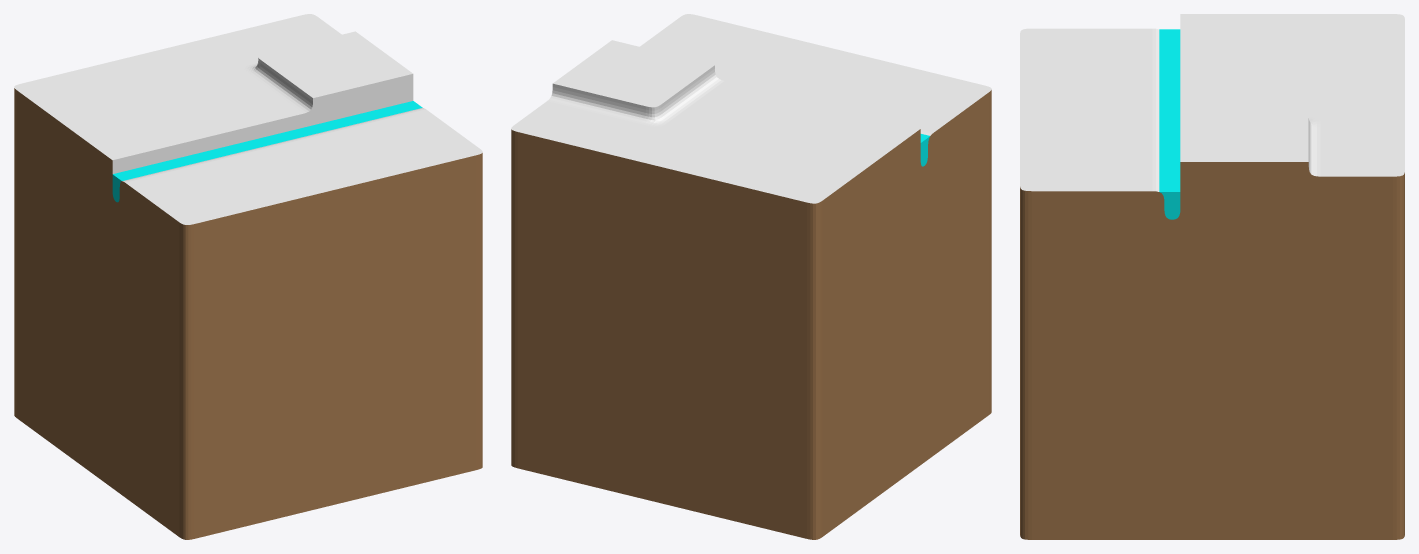
Rendered from terrain chunk.fbx.
3 renders of one model, left to right at view 1: azimuth 30°, elevation 25°; view 2: azimuth 150°, elevation 25°; view 3: azimuth 270°, elevation 25°, orthographic. The views are drawn at different scales.
Visible parts, largest first — view 1: Soil, Surface, Water; view 2: Soil, Surface; view 3: Soil, Surface, Water.
Boxes of the visible parts, left/top/right/bottom form: Soil: left=14, top=88, right=482, bottom=539; Surface: left=14, top=14, right=482, bottom=224; Water: left=112, top=101, right=422, bottom=202; Soil: left=511, top=90, right=991, bottom=539; Surface: left=511, top=14, right=991, bottom=203; Soil: left=1020, top=162, right=1404, bottom=539; Surface: left=1020, top=14, right=1404, bottom=191; Water: left=1159, top=29, right=1180, bottom=219.
Bounding box in the file's own units: 192 × 208 × 192.
